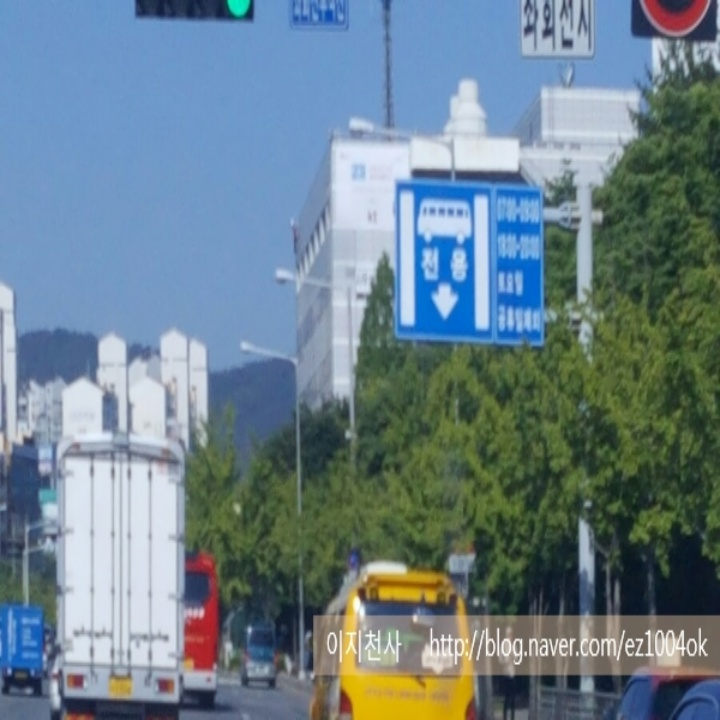bus: (413, 190, 471, 245)
